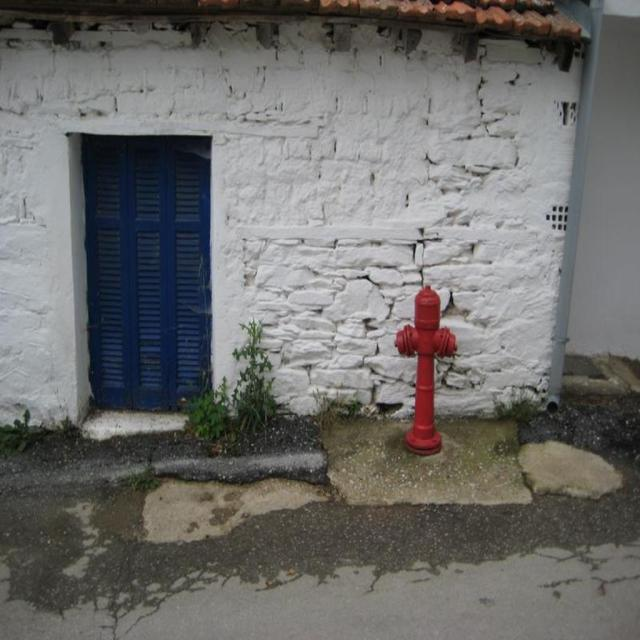fire_hydrant: (397, 287, 455, 451)
